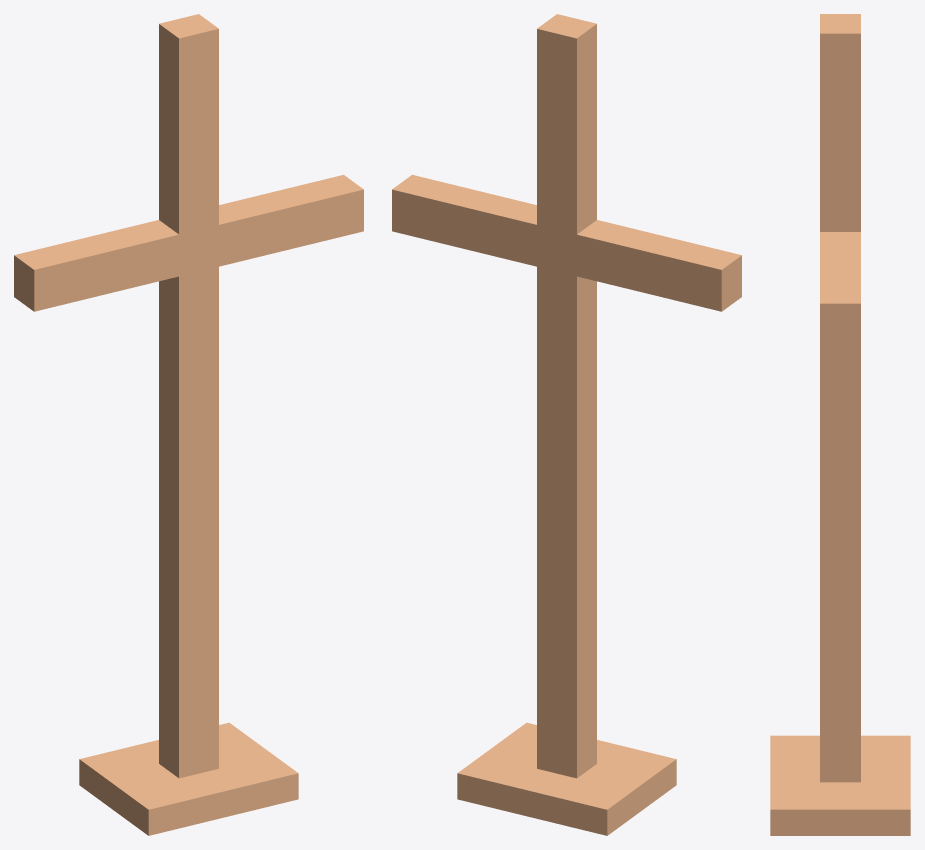
3 views of the same model, side by side, from view 1: azimuth 30°, elevation 25°; view 2: azimuth 150°, elevation 25°; view 3: azimuth 270°, elevation 25° (orthographic).
Parts seen in each view (by area): view 1: Upright, Crossbar, Base; view 2: Upright, Crossbar, Base; view 3: Upright, Base, Crossbar.
Boxes of the visible parts, x1,y1,x2,y2 form: Upright: (159,14,218,778); Crossbar: (14,174,363,311); Base: (79,722,298,835); Upright: (537,14,596,778); Crossbar: (392,174,741,311); Base: (457,722,676,835); Upright: (820,14,860,782); Base: (770,735,910,835); Crossbar: (820,232,860,345).
Size of the model in its own units: 0.66 by 1.47 by 0.24.
1 material, 1 textured.
